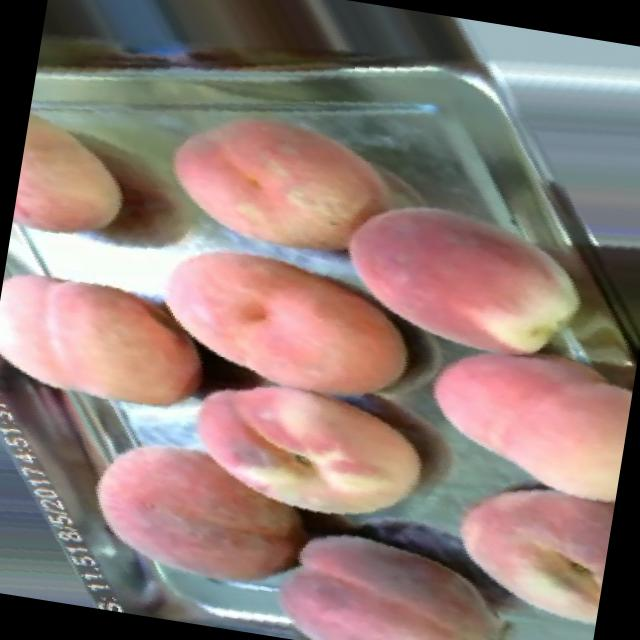Fruit: (316, 170, 608, 383), (133, 228, 438, 414), (162, 368, 452, 554), (68, 414, 333, 616), (144, 76, 408, 274), (404, 303, 640, 509), (252, 490, 539, 640), (0, 265, 226, 432), (421, 465, 617, 640), (8, 92, 150, 265)
